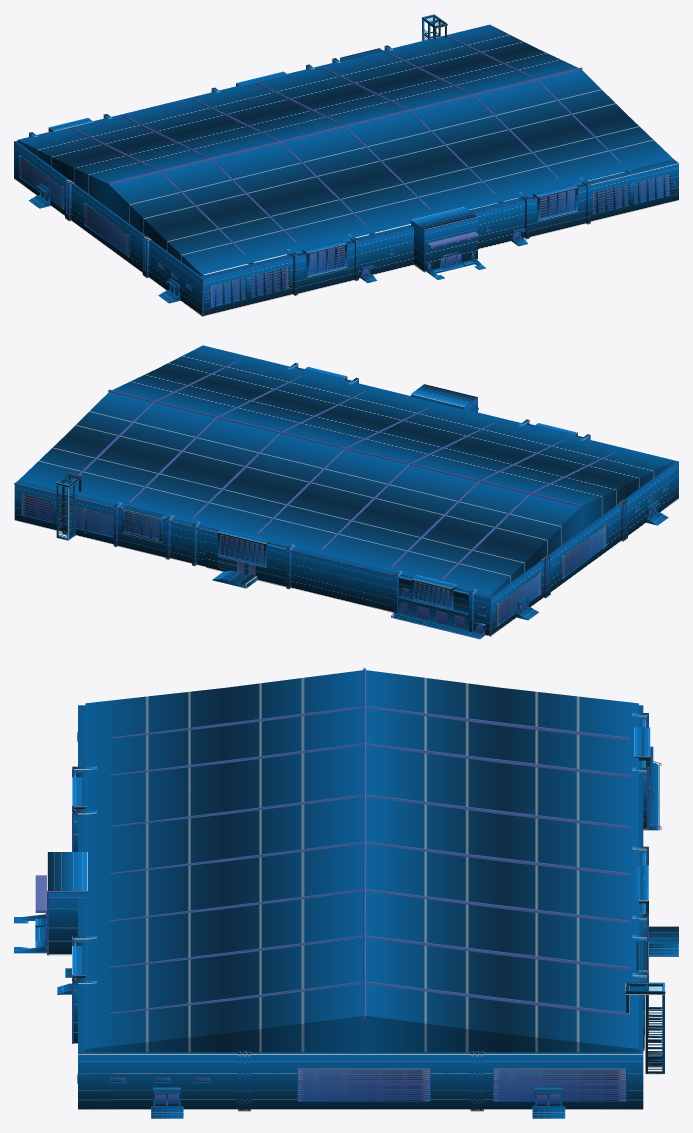
Rendered from khsjzx.gltf.
3 views of the same model, one above another, from view 1: azimuth 30°, elevation 25°; view 2: azimuth 150°, elevation 25°; view 3: azimuth 270°, elevation 25° (orthographic). The views are drawn at different scales.
Bounding box in the file's own units: 9401 × 1140 × 7228.
Materials: 2 (2 with a texture image).
